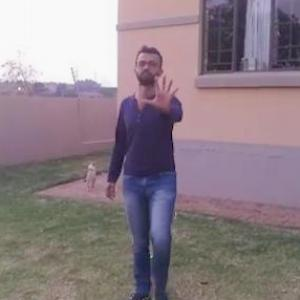follow_hand: (140, 68, 184, 116)
